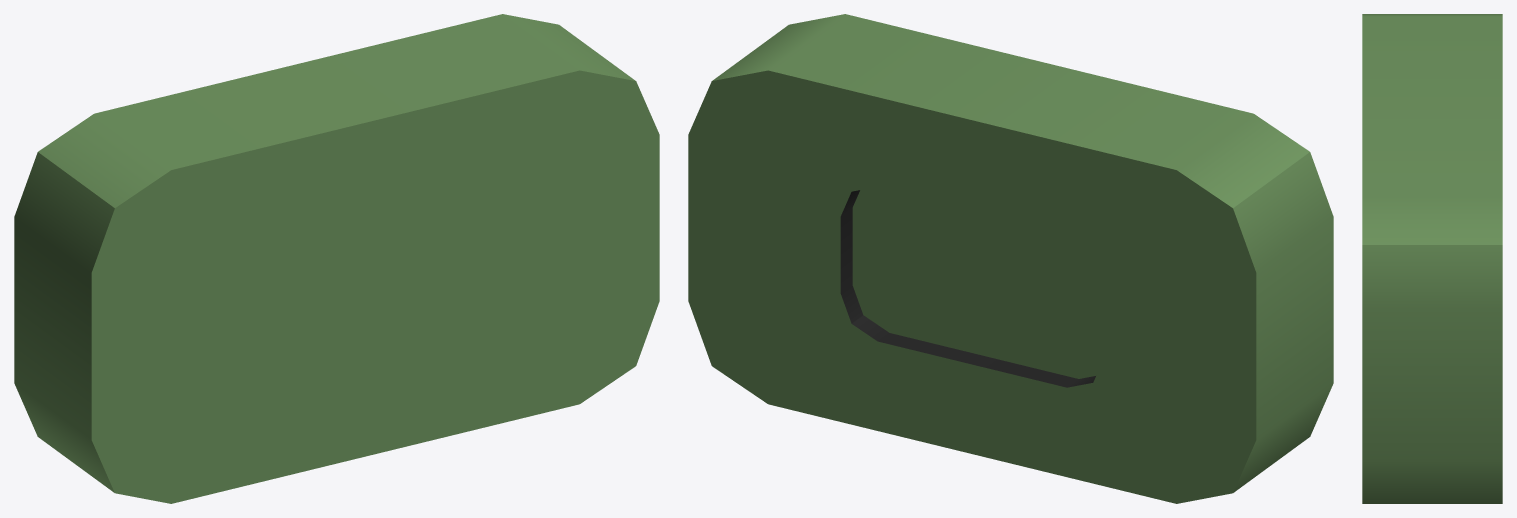
File: Soap.fbx
3 renders of one model, left to right at view 1: azimuth 30°, elevation 25°; view 2: azimuth 150°, elevation 25°; view 3: azimuth 270°, elevation 25°, orthographic. The views are drawn at different scales.
Visible parts, largest first — view 1: pCube6; view 2: pCube6; view 3: pCube6.
Boxes of the visible parts, <box> form: pCube6: <box>14,14,659,503</box>; pCube6: <box>688,14,1333,503</box>; pCube6: <box>1362,14,1502,503</box>.
Size of the model in its own units: 0.9951 by 0.5589 by 0.2341.
